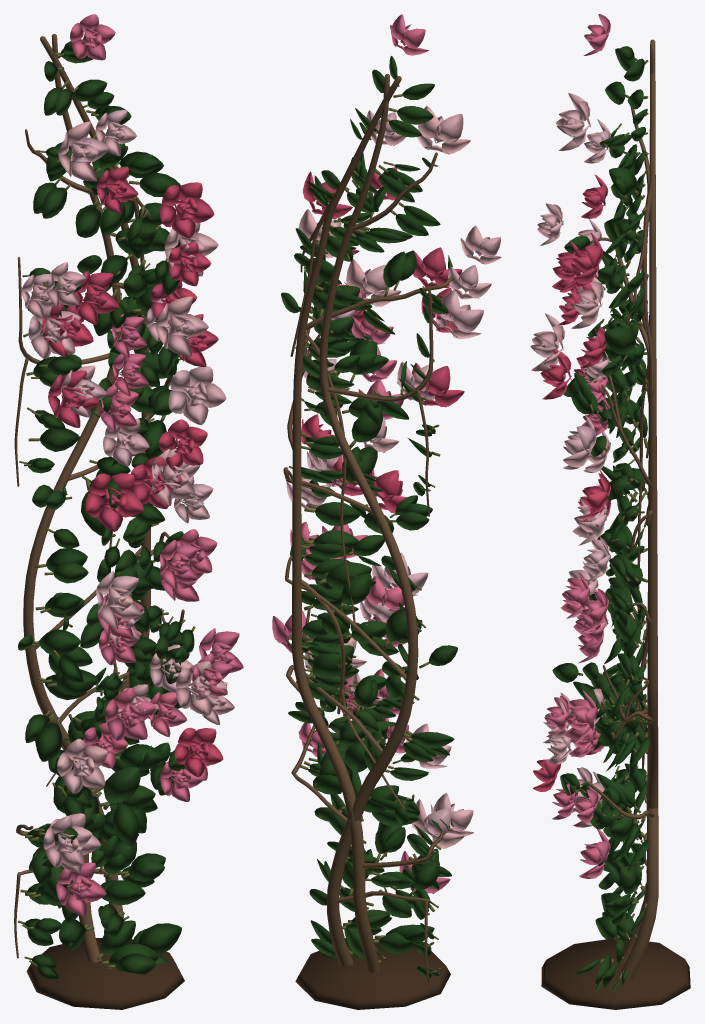
File: climber_rose_narrow.glb
The picture shows the model from 3 angles, left to right: view 1: azimuth 30°, elevation 25°; view 2: azimuth 150°, elevation 25°; view 3: azimuth 270°, elevation 25°; orthographic projection. The views are drawn at different scales.
Parts seen in each view (by area): view 1: Sammel Pflanze, Sammel Holz, Sammel Putz; view 2: Sammel Pflanze, Sammel Holz, Sammel Putz; view 3: Sammel Pflanze, Sammel Holz, Sammel Putz.
Boxes of the visible parts, x1,y1,x2,y2 form: Sammel Pflanze: (18,14,243,979); Sammel Holz: (14,34,184,962); Sammel Putz: (18,52,195,1009); Sammel Pflanze: (272,14,501,978); Sammel Holz: (283,74,454,982); Sammel Putz: (288,85,454,1009); Sammel Pflanze: (530,14,649,993); Sammel Holz: (586,39,658,979); Sammel Putz: (541,58,690,1009).
Size of the model in its own units: 0.5343 by 2.29 by 0.3476.
